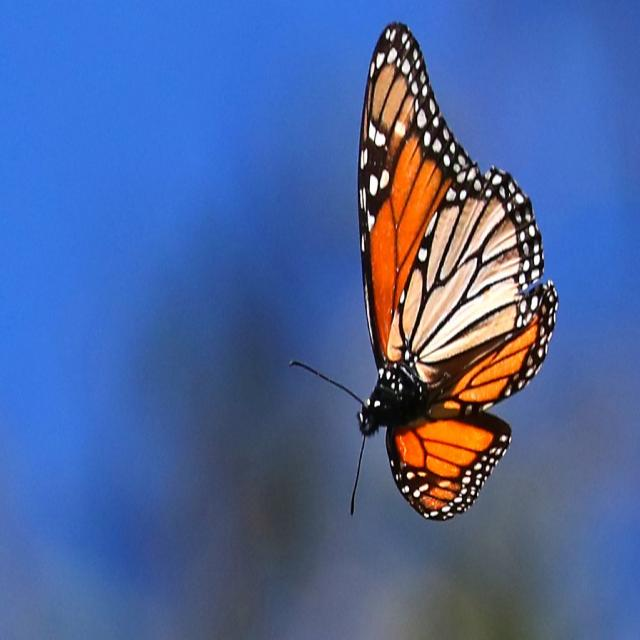butterfly: (340, 55, 566, 521)
